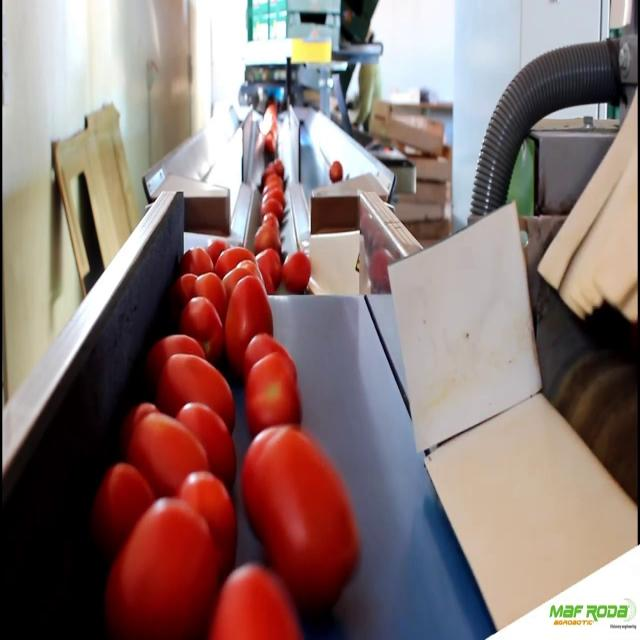Tomato: (241, 428, 364, 598), (107, 506, 220, 640), (120, 407, 206, 498), (212, 568, 301, 636), (158, 357, 235, 422), (176, 402, 237, 473), (226, 275, 271, 369), (180, 475, 237, 546), (245, 357, 302, 424), (101, 457, 152, 531), (185, 294, 227, 354), (152, 331, 203, 375), (284, 250, 313, 294), (216, 245, 256, 274), (195, 274, 224, 301), (257, 250, 283, 280), (183, 246, 212, 270), (178, 270, 200, 296), (256, 227, 282, 249), (264, 195, 284, 216), (330, 157, 342, 180), (265, 134, 275, 156)
